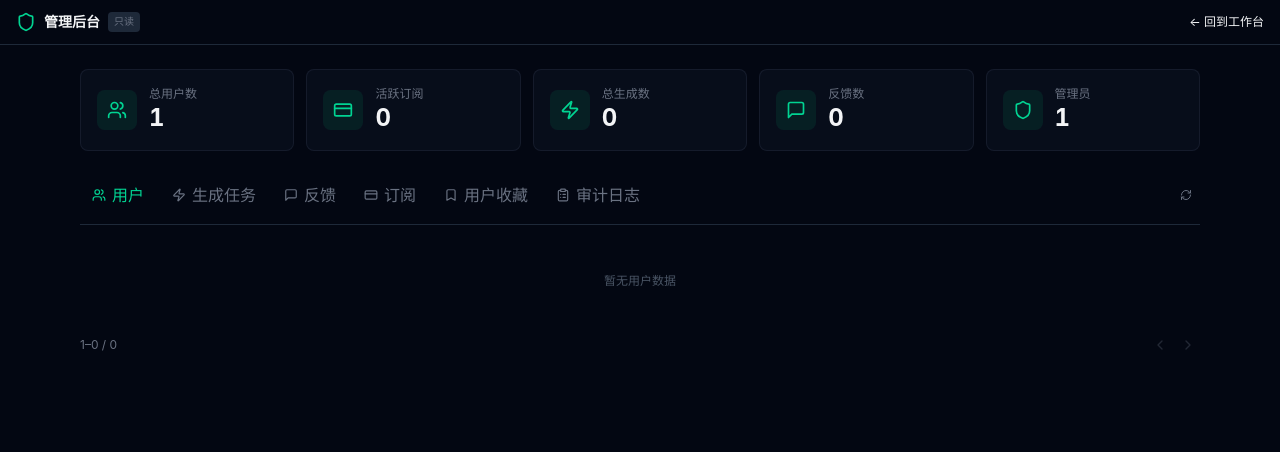
admin pending badge and merged reminder › explains an empty pending queue without hiding reviewed favorites
The width and height of the screenshot is (1280, 452).
Click the button "用户收藏" at (486, 195), box left=432, top=175, right=540, bottom=216
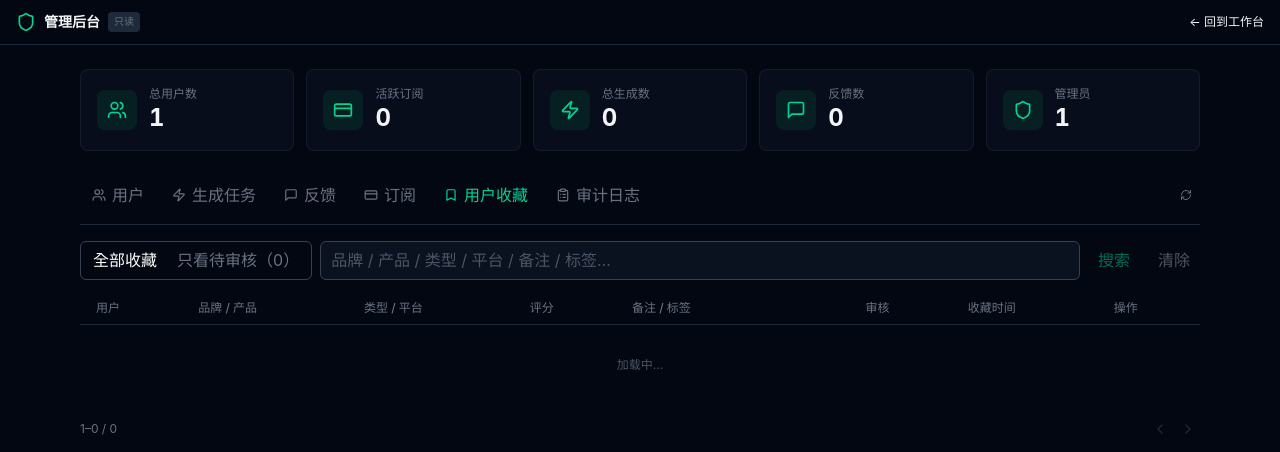
Click the button "只看待审核（0）" at (238, 260), box left=167, top=244, right=309, bottom=277
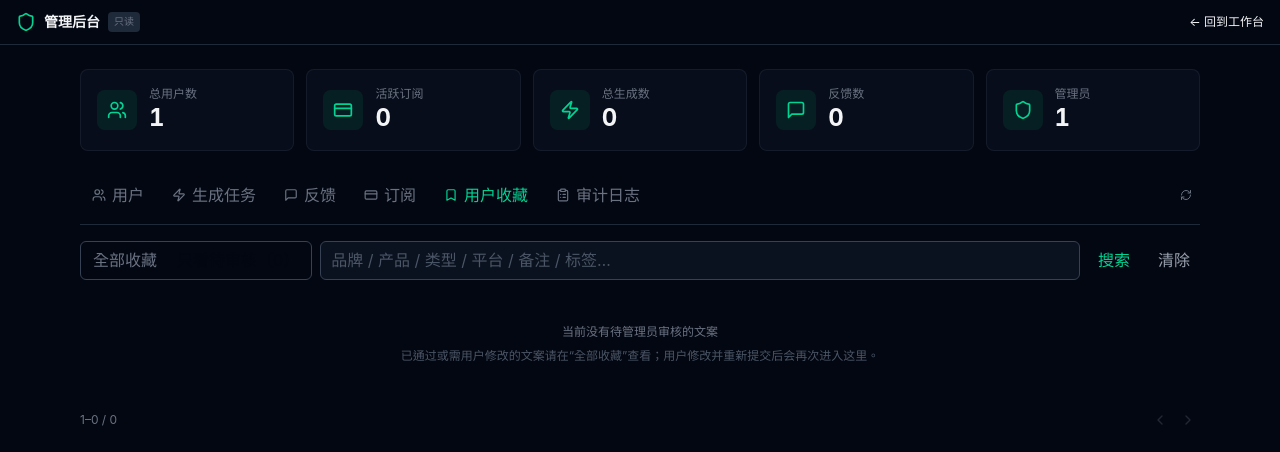
Now the button "只看待审核（0）" is shown, box left=167, top=244, right=309, bottom=277
Now the text "当前没有待管理员审核的文案" is shown, box left=562, top=324, right=718, bottom=339
Now the text "已通过或需用户修改的文案请在“全部收藏”查看；用户修改并重新提交后会再次进入这里。" is shown, box left=401, top=348, right=879, bottom=363
